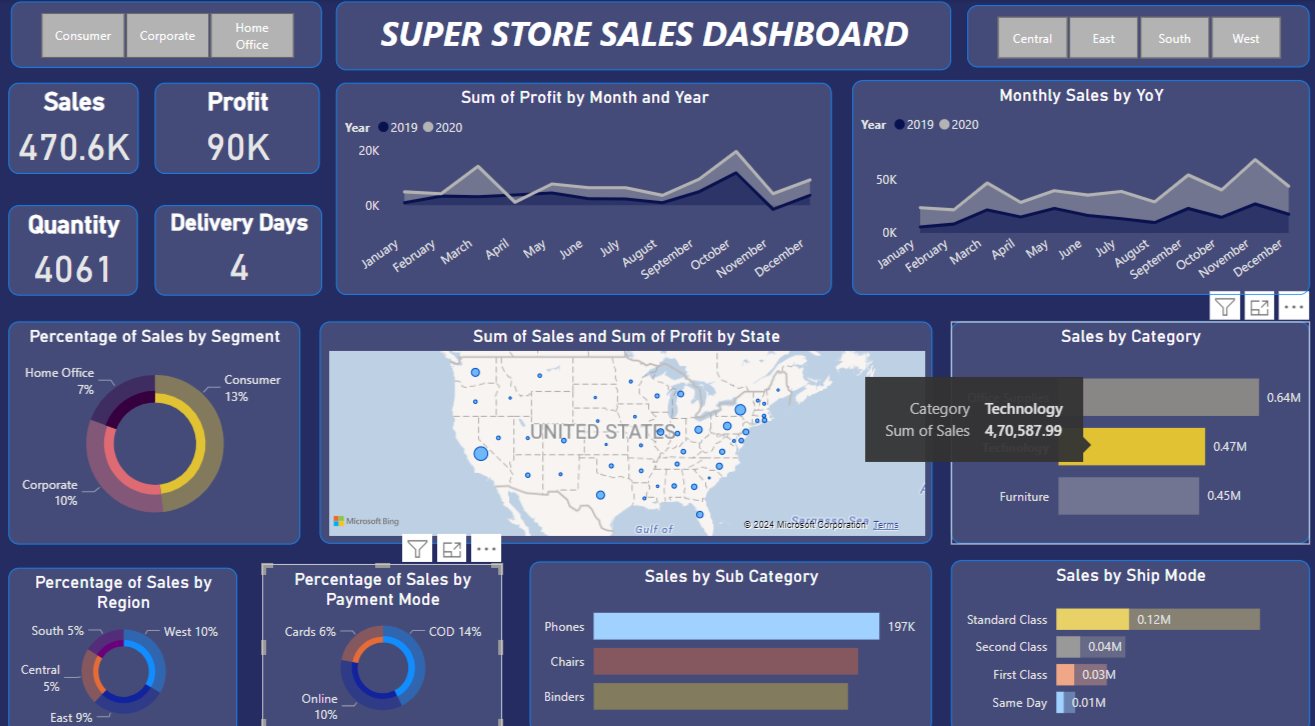

This screenshot's page, from the dashboard's own definition file:
{"tool":"powerbi","page":{"name":"Page 1","canvas":[1280,720],"ordinal":0},"visuals":[{"type":"clusteredBarChart","title":"Sales by Category","fields":{"Category":["SuperStore_Sales_Dataset.Category"],"Y":["Sum(SuperStore_Sales_Dataset.Sales)"]},"box":[920.2,311.2,346.1,214.7],"z":0},{"type":"clusteredBarChart","title":"Sales by Sub Category","fields":{"Category":["SuperStore_Sales_Dataset.Sub-Category"],"Y":["Sum(SuperStore_Sales_Dataset.Sales)"]},"box":[513.8,542.7,388.3,165.2],"z":1000},{"type":"clusteredBarChart","title":"Sales by Ship Mode","fields":{"Category":["SuperStore_Sales_Dataset.Ship Mode"],"Y":["Sum(SuperStore_Sales_Dataset.Sales)"]},"box":[920,541.2,346.2,166.2],"z":2000},{"type":"stackedAreaChart","title":"Monthly Sales by YoY","fields":{"Y":["Sum(SuperStore_Sales_Dataset.Sales)"],"Category":["SuperStore_Sales_Dataset.Order Date.Variation.Date Hierarchy.Month","SuperStore_Sales_Dataset.Order Date.Variation.Date Hierarchy.Day"],"Series":["SuperStore_Sales_Dataset.Order Date.Variation.Date Hierarchy.Year"]},"box":[825,78.8,441.2,207.5],"z":3000},{"type":"stackedAreaChart","fields":{"Category":["SuperStore_Sales_Dataset.Order Date.Variation.Date Hierarchy.Month","SuperStore_Sales_Dataset.Order Date.Variation.Date Hierarchy.Day"],"Series":["SuperStore_Sales_Dataset.Order Date.Variation.Date Hierarchy.Year"],"Y":["Sum(SuperStore_Sales_Dataset.Profit)"]},"box":[326.2,81.2,478.8,205],"z":4000},{"type":"map","fields":{"Category":["SuperStore_Sales_Dataset.State"],"Size":["Sum(SuperStore_Sales_Dataset.Sales)"]},"box":[311.2,311.2,591,214.7],"z":5000},{"type":"donutChart","title":"Percentage of Sales by Segment","fields":{"Category":["SuperStore_Sales_Dataset.Segment"],"Y":["Sum(SuperStore_Sales_Dataset.Sales)"]},"box":[11.2,311.2,281.2,215],"z":6000},{"type":"donutChart","title":"Percentage of Sales by Payment Mode","fields":{"Category":["SuperStore_Sales_Dataset.Payment Mode"],"Y":["Sum(SuperStore_Sales_Dataset.Sales)"]},"box":[255.7,545.1,231.6,160.4],"z":7000},{"type":"slicer","fields":{"Values":["SuperStore_Sales_Dataset.Region"]},"box":[936.2,6.2,330,60],"z":8000},{"type":"textbox","box":[326.2,2.5,593.8,66.2],"z":9000},{"type":"card","title":"Sales","fields":{"Values":["Sum(SuperStore_Sales_Dataset.Sales)"]},"box":[11.2,81.2,125,87.5],"z":10000},{"type":"card","title":"Quantity","fields":{"Values":["Sum(SuperStore_Sales_Dataset.Quantity)"]},"box":[11.2,198.8,125,87.5],"z":11000},{"type":"card","title":"Profit","fields":{"Values":["Sum(SuperStore_Sales_Dataset.Profit)"]},"box":[161.2,81.2,152.5,87.5],"z":12000},{"type":"card","title":"Delivery Days","fields":{"Values":["Avg(SuperStore_Sales_Dataset.AvgDelievery)"]},"box":[162.5,198.8,151.2,87.5],"z":13000},{"type":"donutChart","title":"Percentage of Sales by Region","fields":{"Category":["SuperStore_Sales_Dataset.Region"],"Y":["Sum(SuperStore_Sales_Dataset.Sales)"]},"box":[10.9,548.7,220.7,160.4],"z":14000},{"type":"slicer","fields":{"Values":["SuperStore_Sales_Dataset.Segment"]},"box":[11.2,2.5,300,63.8],"z":15000}]}

Visuals, with their boxes in screenshot pixels (x1, y1, x2, y2), scaled from the page's 1280x720 canvas onto the 1315x726 screenshot:
"Sales by Category" clusteredBarChart: rect(945, 314, 1301, 530)
"Sales by Sub Category" clusteredBarChart: rect(528, 547, 927, 714)
"Sales by Ship Mode" clusteredBarChart: rect(945, 546, 1301, 713)
"Monthly Sales by YoY" stackedAreaChart: rect(848, 79, 1301, 289)
stackedAreaChart - SuperStore_Sales_Dataset.Order Date.Variation.Date Hierarchy.Month x SuperStore_Sales_Dataset.Order Date.Variation.Date Hierarchy.Day: rect(335, 82, 827, 289)
map - SuperStore_Sales_Dataset.State x Sum(SuperStore_Sales_Dataset.Sales): rect(320, 314, 927, 530)
"Percentage of Sales by Segment" donutChart: rect(12, 314, 300, 531)
"Percentage of Sales by Payment Mode" donutChart: rect(263, 550, 501, 711)
slicer - SuperStore_Sales_Dataset.Region: rect(962, 6, 1301, 67)
textbox: rect(335, 3, 945, 69)
"Sales" card: rect(12, 82, 140, 170)
"Quantity" card: rect(12, 200, 140, 289)
"Profit" card: rect(166, 82, 322, 170)
"Delivery Days" card: rect(167, 200, 322, 289)
"Percentage of Sales by Region" donutChart: rect(11, 553, 238, 715)
slicer - SuperStore_Sales_Dataset.Segment: rect(12, 3, 320, 67)
